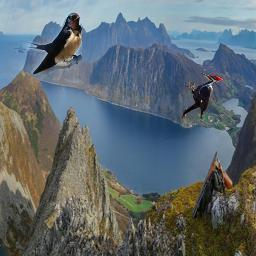Swallow: (6, 12, 82, 74)
Woodpecker: (181, 72, 223, 119)
